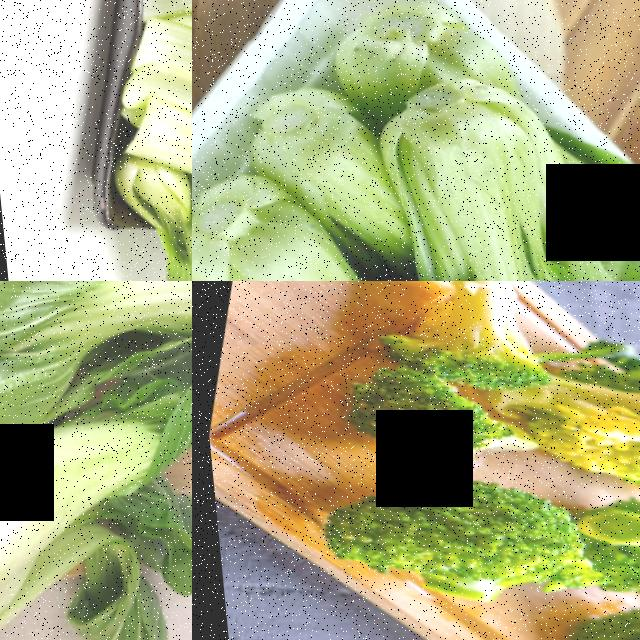bok choy: (0, 366, 192, 640), (377, 69, 611, 281), (0, 281, 192, 455), (102, 53, 192, 273), (192, 216, 415, 281)
broccoli: (307, 462, 568, 623), (491, 320, 640, 508), (326, 368, 524, 504), (354, 281, 527, 403), (556, 500, 640, 624)
